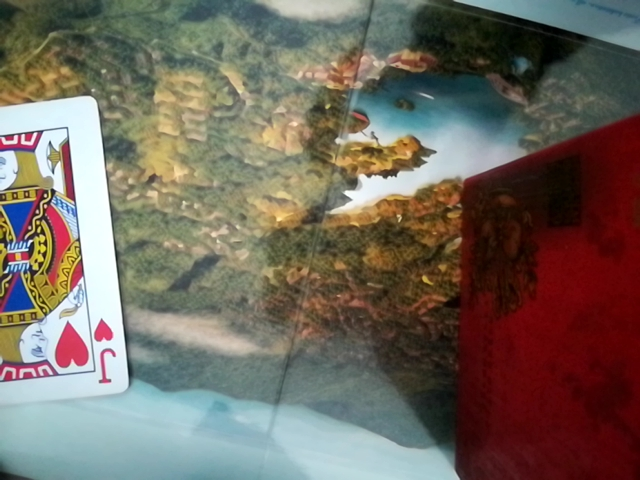hx j: (0, 95, 125, 416)
